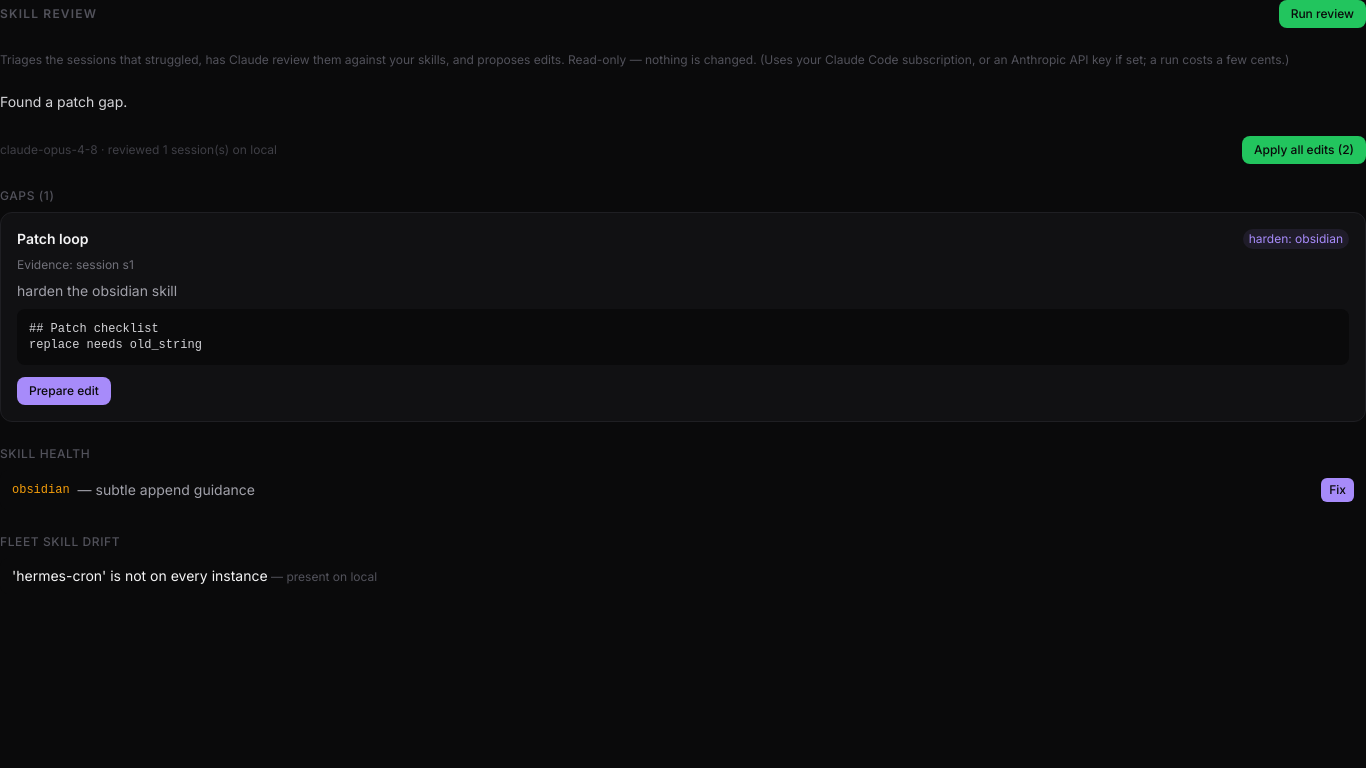
Test case: ReviewTab › prepares and applies an edit via the diff modal
Check: the text "Patch loop" is shown, box [17,229,88,249]
Click the button "Prepare edit". click: (64, 391)
box: [17,377,111,405]
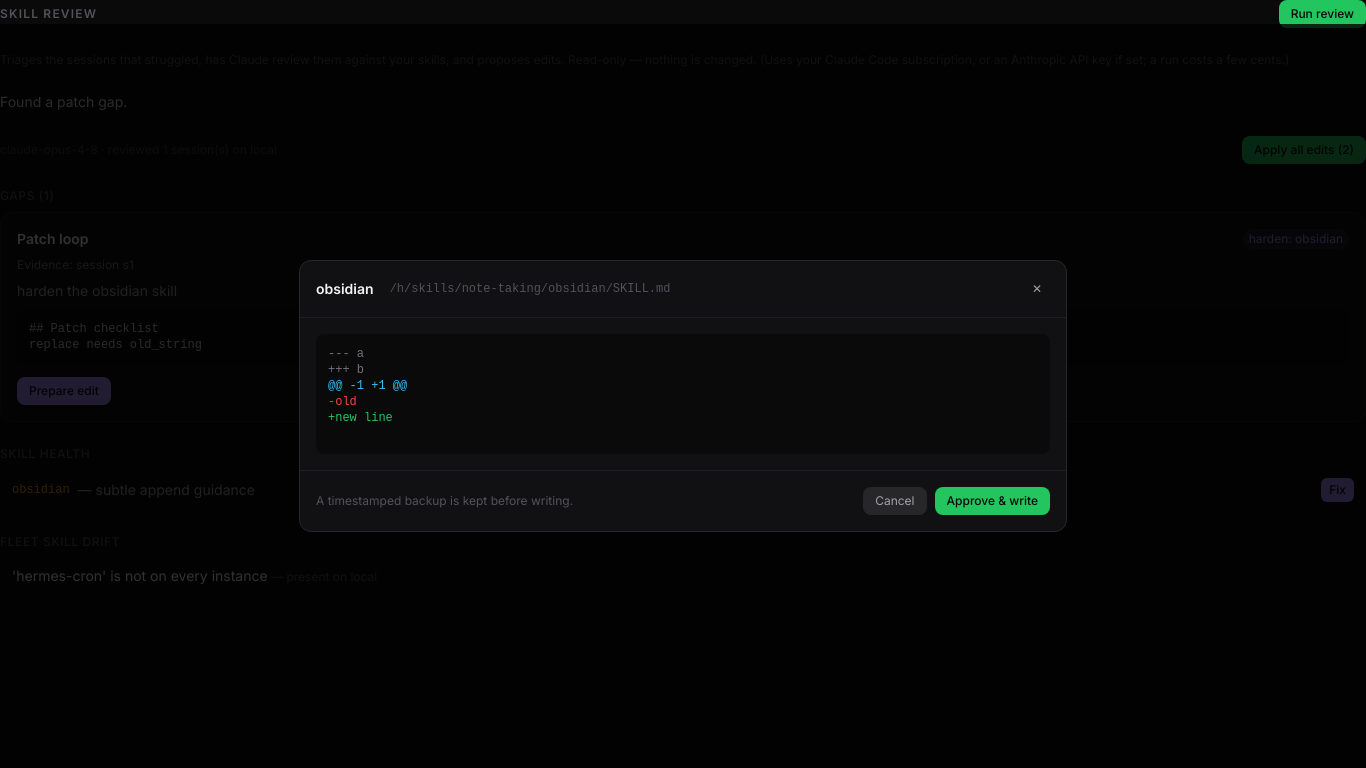
Click the button "Approve & write". click: (992, 501)
box: [934,487,1050,515]
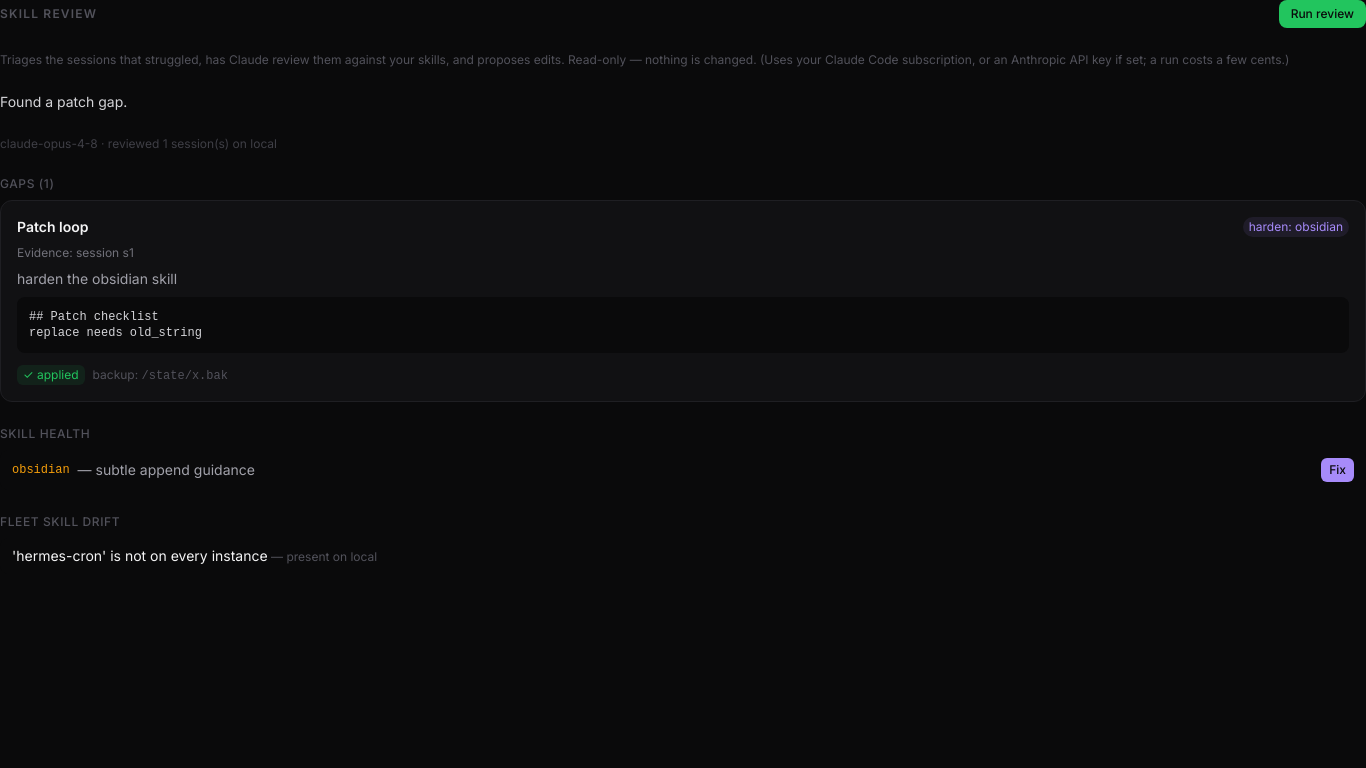
Check: the text "✓ applied" is shown, box [17,365,85,385]
Check: the text "/state/x.bak" is shown, box [142,368,228,382]
Check: the button "Prepare edit" is gone
